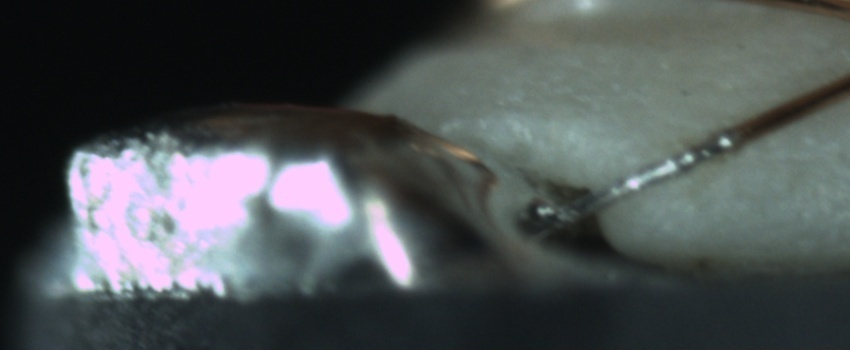DL: (724, 138, 849, 186)
TS: (545, 127, 740, 233)
TTCW: (535, 116, 756, 231)
